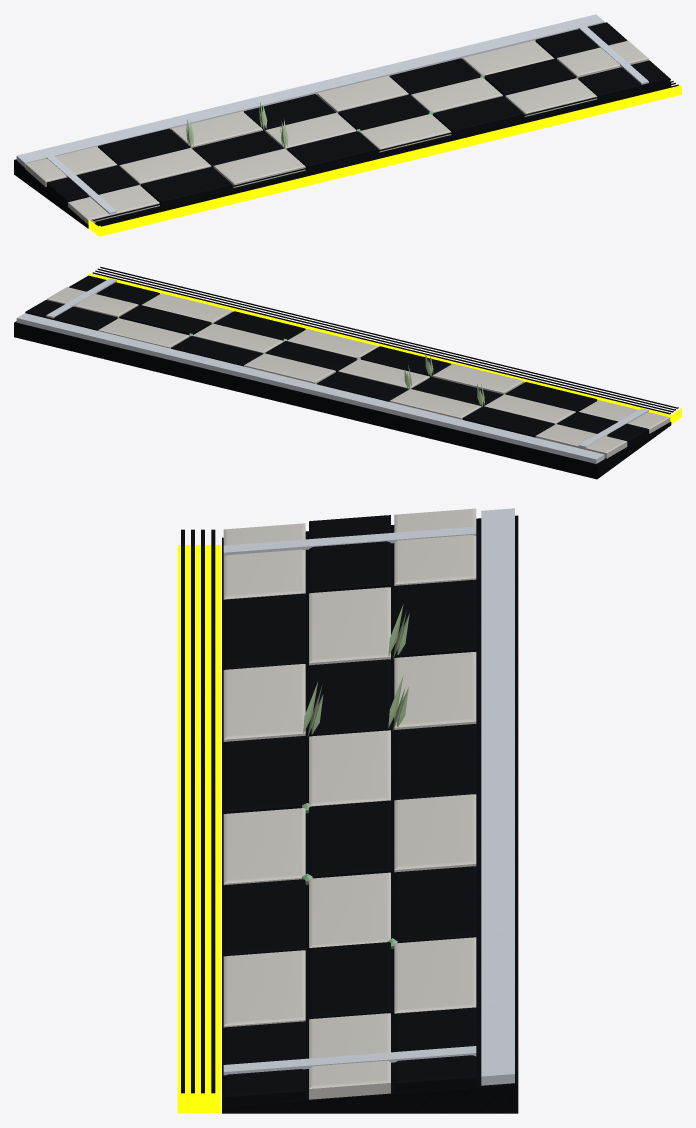
File: tt_terrace_apron.glb
3 renders of one model, top to bottom at view 1: azimuth 30°, elevation 25°; view 2: azimuth 150°, elevation 25°; view 3: azimuth 270°, elevation 25°, orthographic. The views are drawn at different scales.
Parts seen in each view (by area): view 1: Pavers_B, Pavers_A, Back_Court_Line, Nosing, Nosing_Grooves, Apron_Body, End_Court_Lines, Joint_Tufts; view 2: Pavers_A, Pavers_B, Apron_Body, Back_Court_Line, Nosing_Grooves, Nosing, End_Court_Lines, Joint_Tufts; view 3: Pavers_B, Pavers_A, Back_Court_Line, Nosing, Apron_Body, Nosing_Grooves, End_Court_Lines, Joint_Tufts.
Part boxes in pixels (<box>): Pavers_B: <box>46,22,670,205</box>; Pavers_A: <box>25,40,648,224</box>; Back_Court_Line: <box>16,14,604,167</box>; Nosing: <box>88,85,681,236</box>; Nosing_Grooves: <box>92,79,678,226</box>; Apron_Body: <box>14,83,671,228</box>; End_Court_Lines: <box>46,25,648,214</box>; Joint_Tufts: <box>186,102,288,148</box>; Pavers_A: <box>46,287,670,458</box>; Pavers_B: <box>25,275,648,446</box>; Apron_Body: <box>14,321,671,479</box>; Back_Court_Line: <box>16,313,604,463</box>; Nosing_Grooves: <box>92,266,678,414</box>; Nosing: <box>88,273,681,424</box>; End_Court_Lines: <box>46,278,648,448</box>; Joint_Tufts: <box>404,353,484,406</box>; Pavers_B: <box>223,515,476,1105</box>; Pavers_A: <box>223,508,476,1099</box>; Back_Court_Line: <box>481,508,514,1085</box>; Nosing: <box>177,545,221,1113</box>; Apron_Body: <box>222,515,518,1113</box>; Nosing_Grooves: <box>181,529,215,1093</box>; End_Court_Lines: <box>223,526,476,1075</box>; Joint_Tufts: <box>303,604,409,737</box>.
Size of what is drawn, in the model's own units: 4 by 0.2705 by 1.01.
7 materials, 3 textured.
